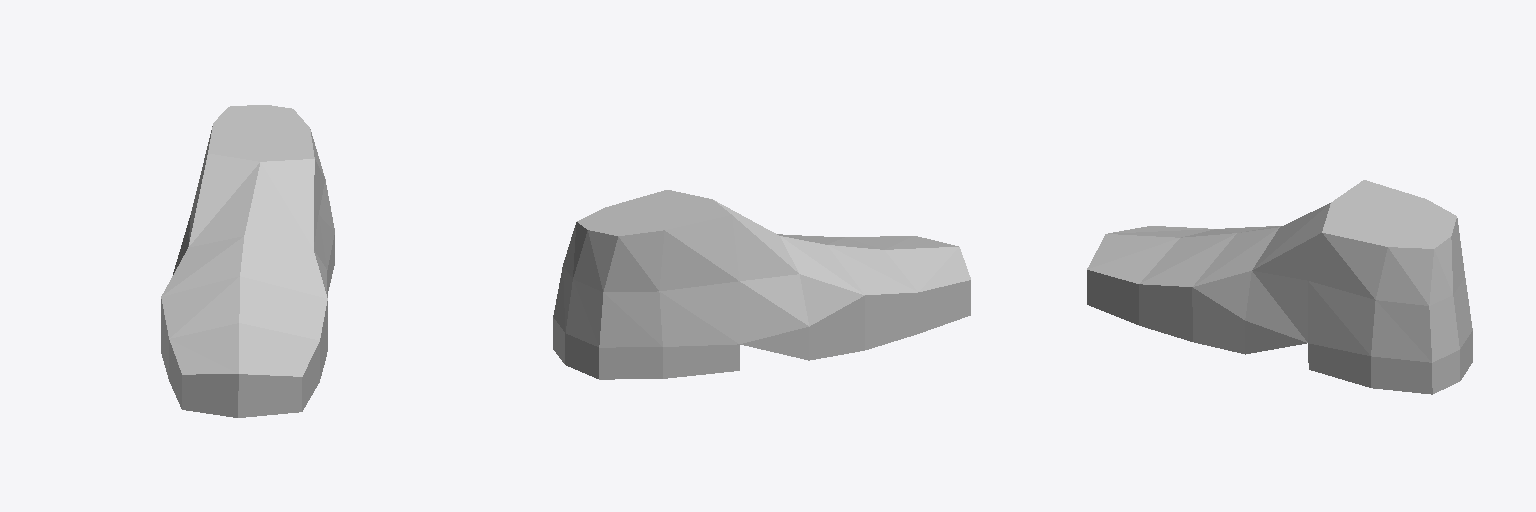
The model's file is shoe_1.obj.
3 views of the same model, side by side, from view 1: azimuth 30°, elevation 25°; view 2: azimuth 150°, elevation 25°; view 3: azimuth 270°, elevation 25° (orthographic).
Visible parts, largest first — view 1: mesh3_002_mesh3_geometry; view 2: mesh3_002_mesh3_geometry; view 3: mesh3_002_mesh3_geometry.
Boxes of the visible parts, x1,y1,x2,y2 form: mesh3_002_mesh3_geometry: [161, 105, 334, 417]; mesh3_002_mesh3_geometry: [553, 190, 970, 379]; mesh3_002_mesh3_geometry: [1087, 180, 1472, 394].
Bounding box in the file's own units: 23.59 × 11.92 × 28.44.